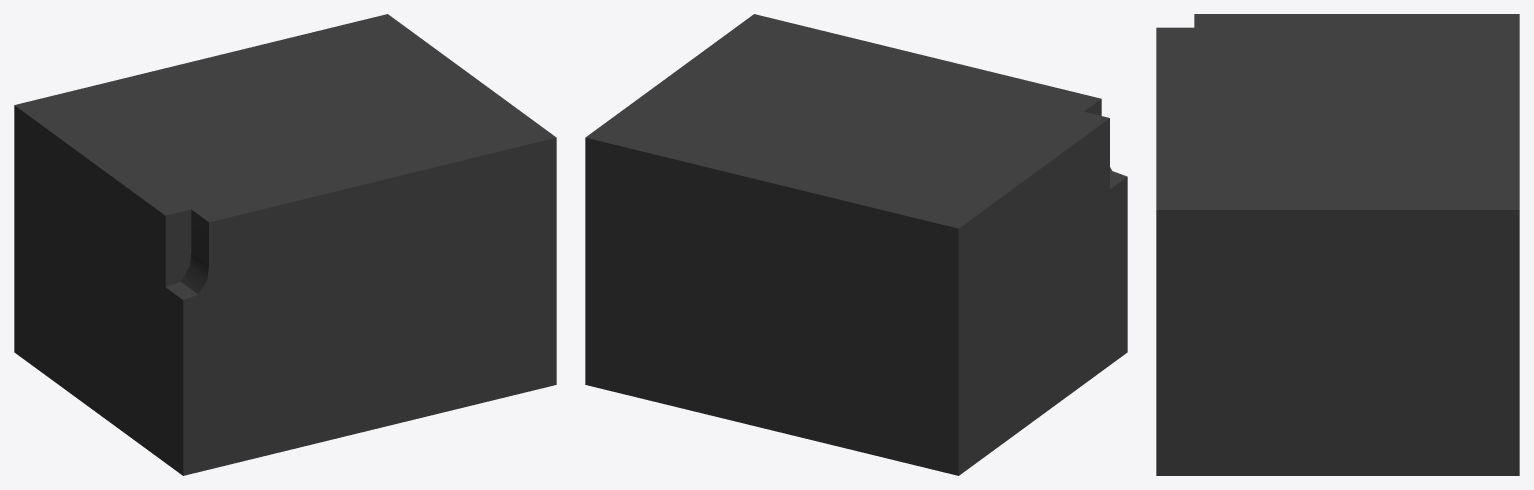
Rendered from fbx_drawer_1.fbx.
3 renders of one model, left to right at view 1: azimuth 30°, elevation 25°; view 2: azimuth 150°, elevation 25°; view 3: azimuth 270°, elevation 25°, orthographic. The views are drawn at different scales.
Parts seen in each view (by area): view 1: fbx_drawer_1; view 2: fbx_drawer_1; view 3: fbx_drawer_1.
Boxes of the visible parts, box(x1,y1,x2,y2) form: fbx_drawer_1: box(14, 14, 556, 475); fbx_drawer_1: box(585, 14, 1127, 475); fbx_drawer_1: box(1156, 14, 1519, 475).
Bounding box in the file's own units: 1.12 × 0.708 × 0.8762.
Materials: 1 (1 with a texture image).
